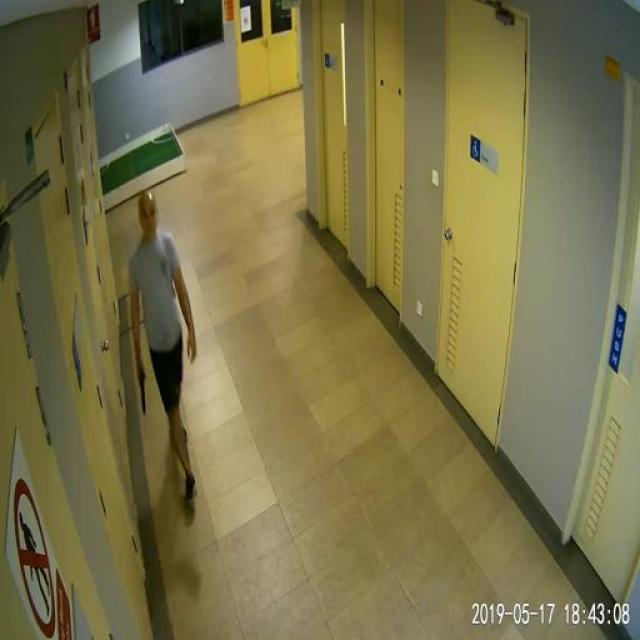Gun: (121, 365, 166, 431)
